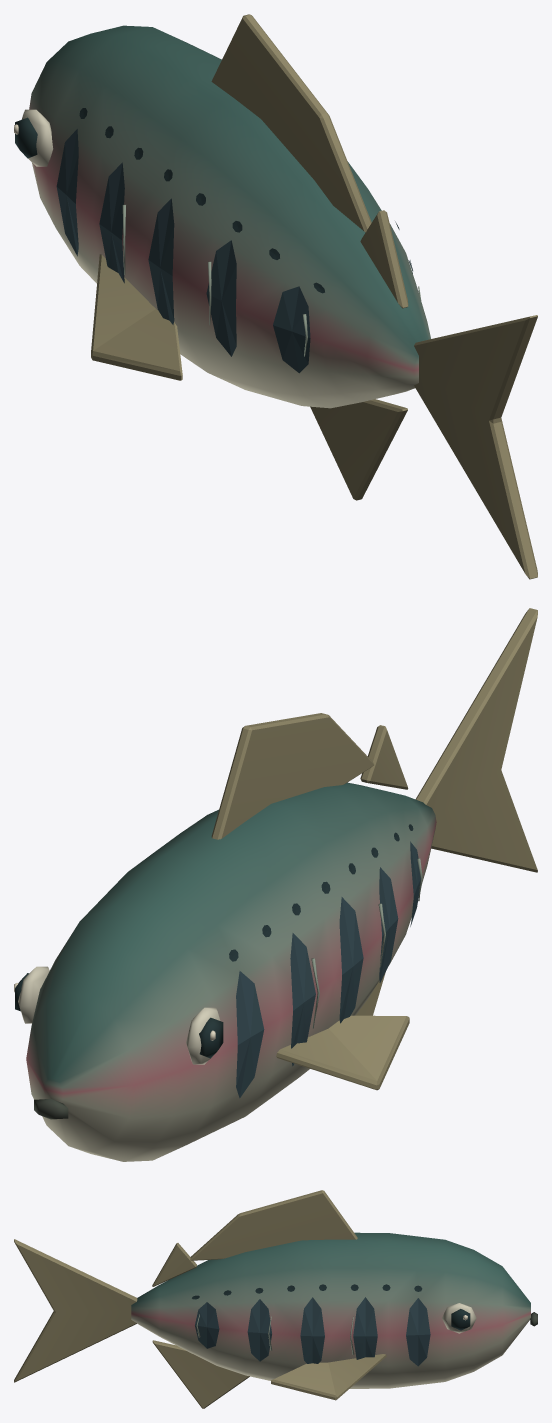
The model's file is fish_masu_salmon.glb.
The picture shows the model from 3 angles, top to bottom: view 1: azimuth 30°, elevation 25°; view 2: azimuth 150°, elevation 25°; view 3: azimuth 270°, elevation 25°; orthographic projection. The views are drawn at different scales.
Bounding box in the file's own units: 0.102 × 0.1371 × 0.2996.
